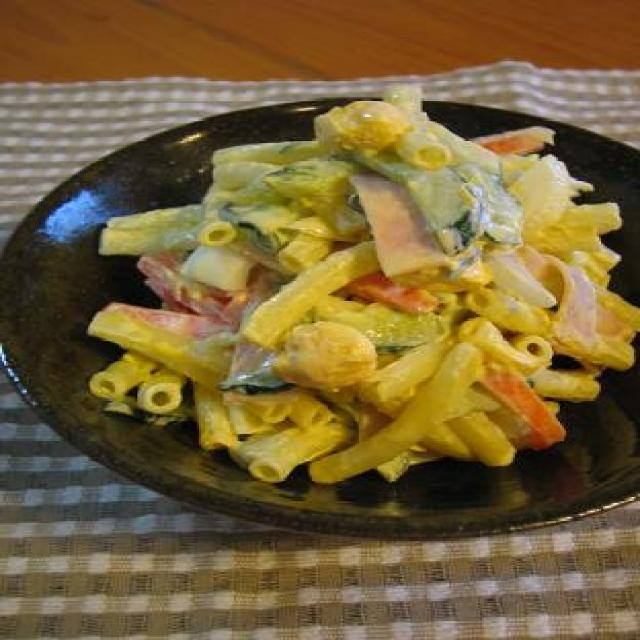蔬菜料理: (0, 77, 640, 546)
